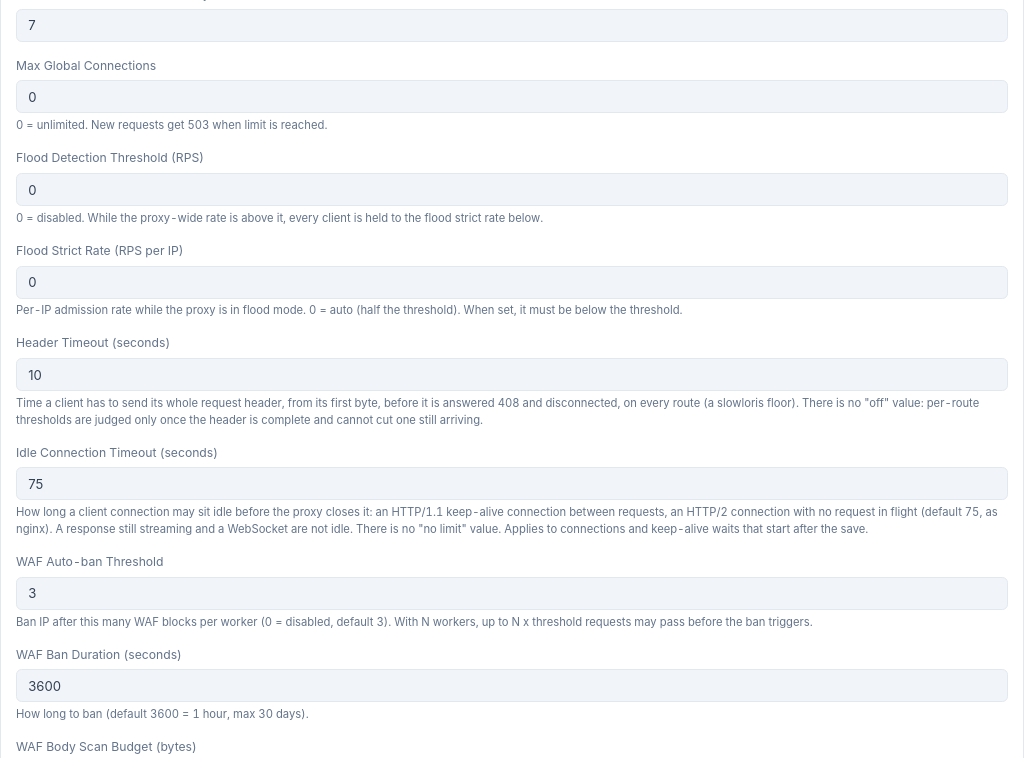
Scenario: GlobalConfigTab, the settings backlog #89 added › refuses a header timeout of 0 before the schema loads
(page scrolled)
Replace the text in the number field labelled "Header Timeout (seconds)" with "0" at x=512, y=375, box [16,358,1008,391]
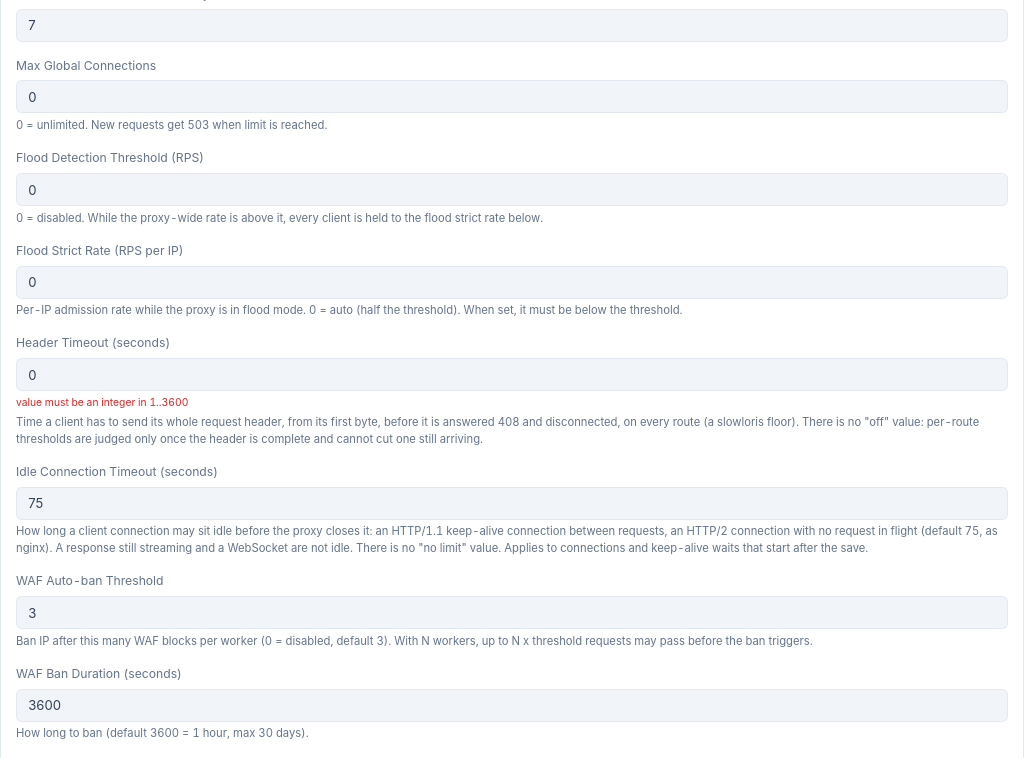
expect the message "value must be an integer in 1..3600" is shown: met, box [16,396,188,408]
Replace the text in the number field labelled "Header Timeout (seconds)" with "10" at x=512, y=375, box [16,358,1008,391]
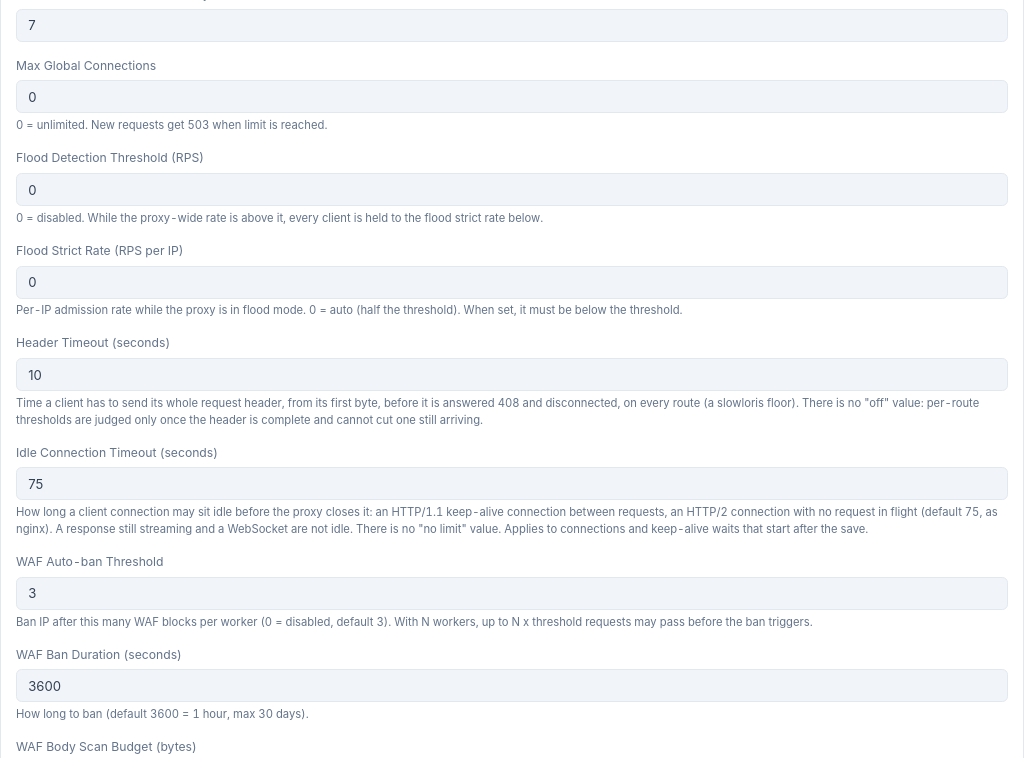
expect the message "value must be an integer in 1..3600" is gone: met
